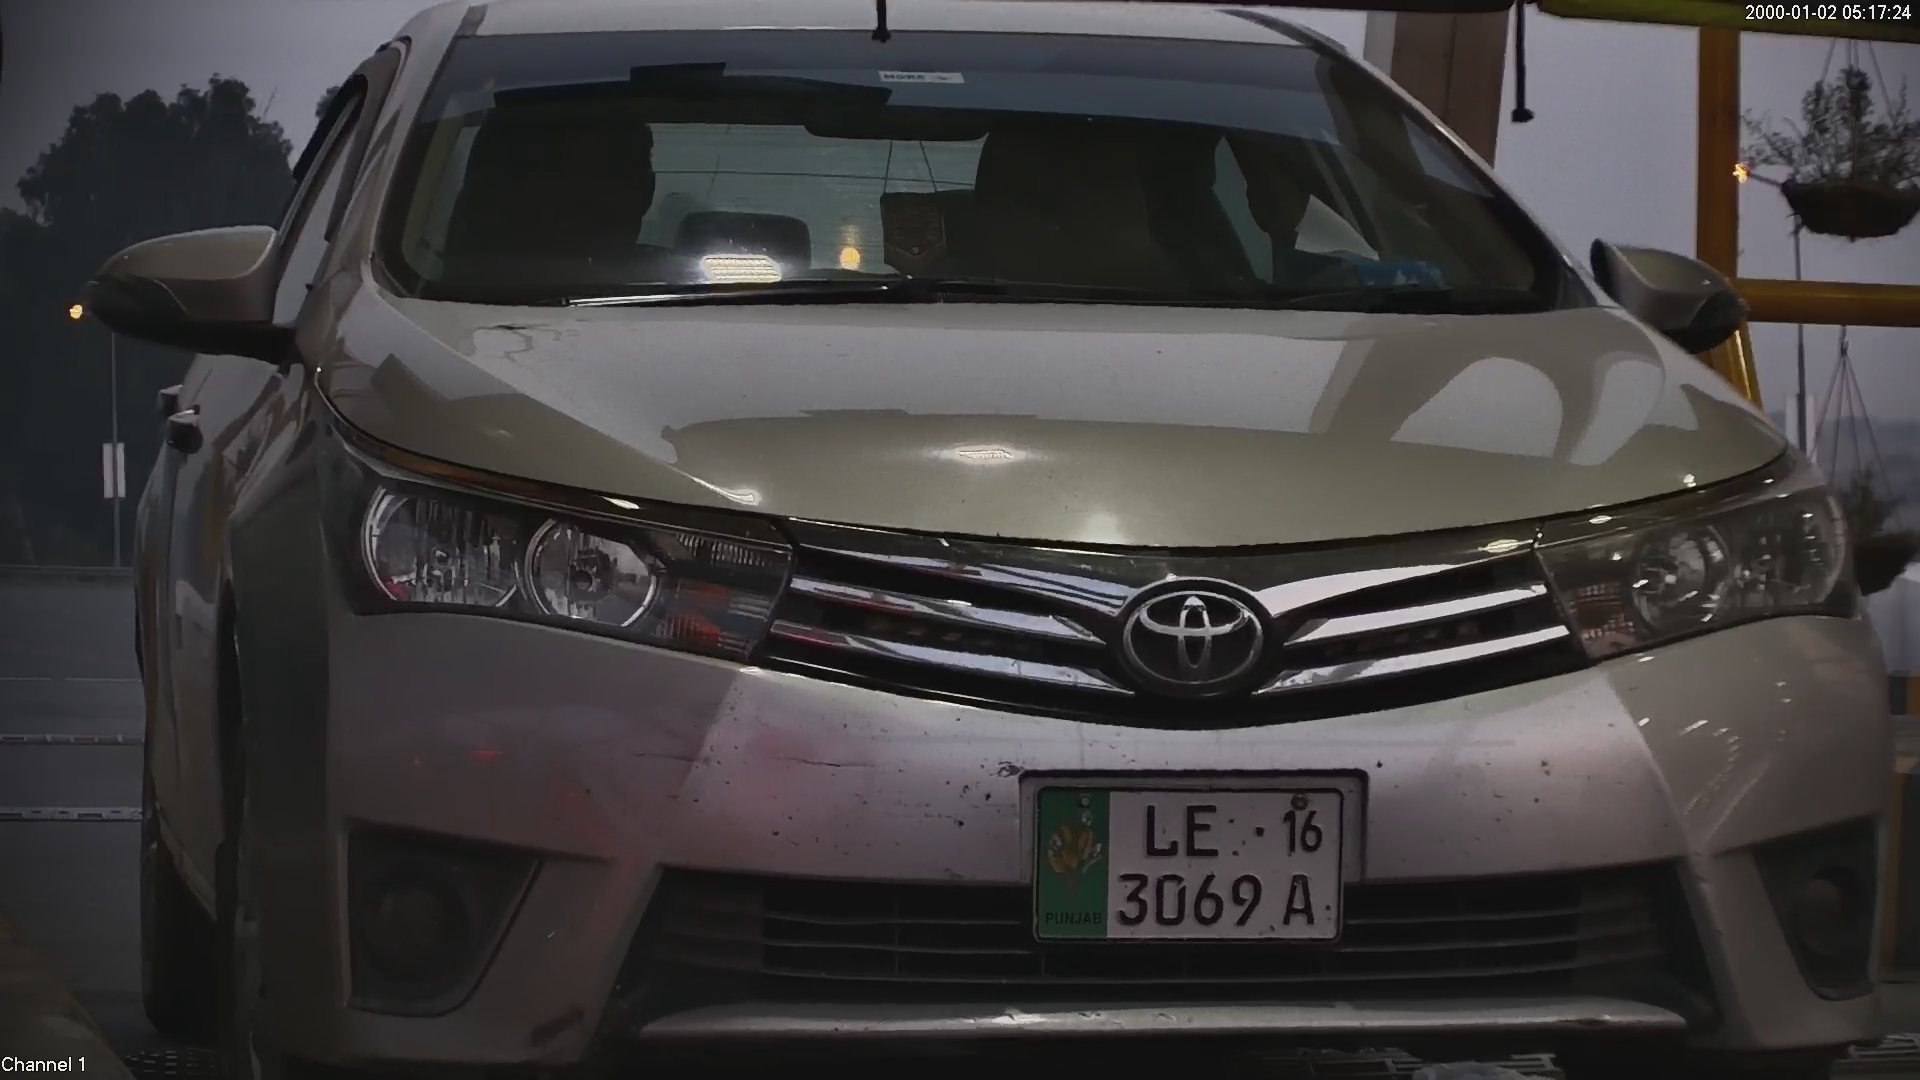Number_Plate: (1024, 769, 1354, 958)
